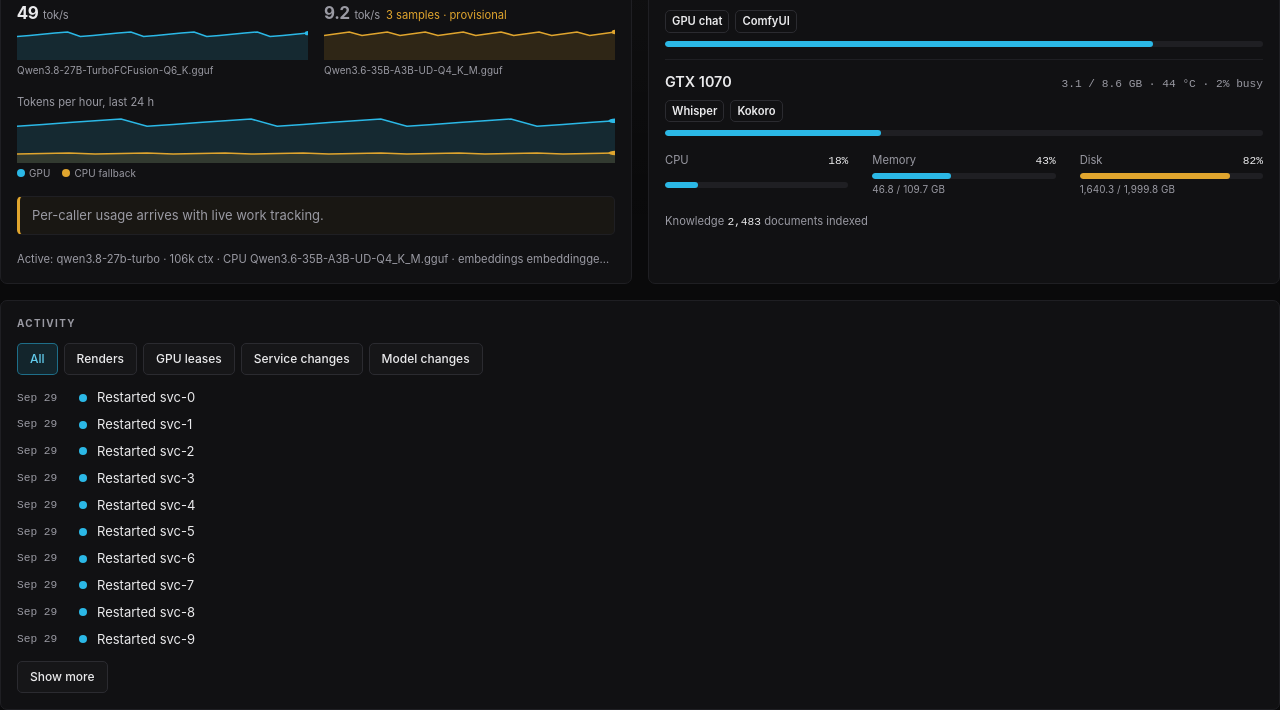
Test: the grouped activity feed › widens the request to the endpoint cap on Show more
(page scrolled)
Step 1. Click the button "Show more" → click(62, 677), box [17,661,108,693]
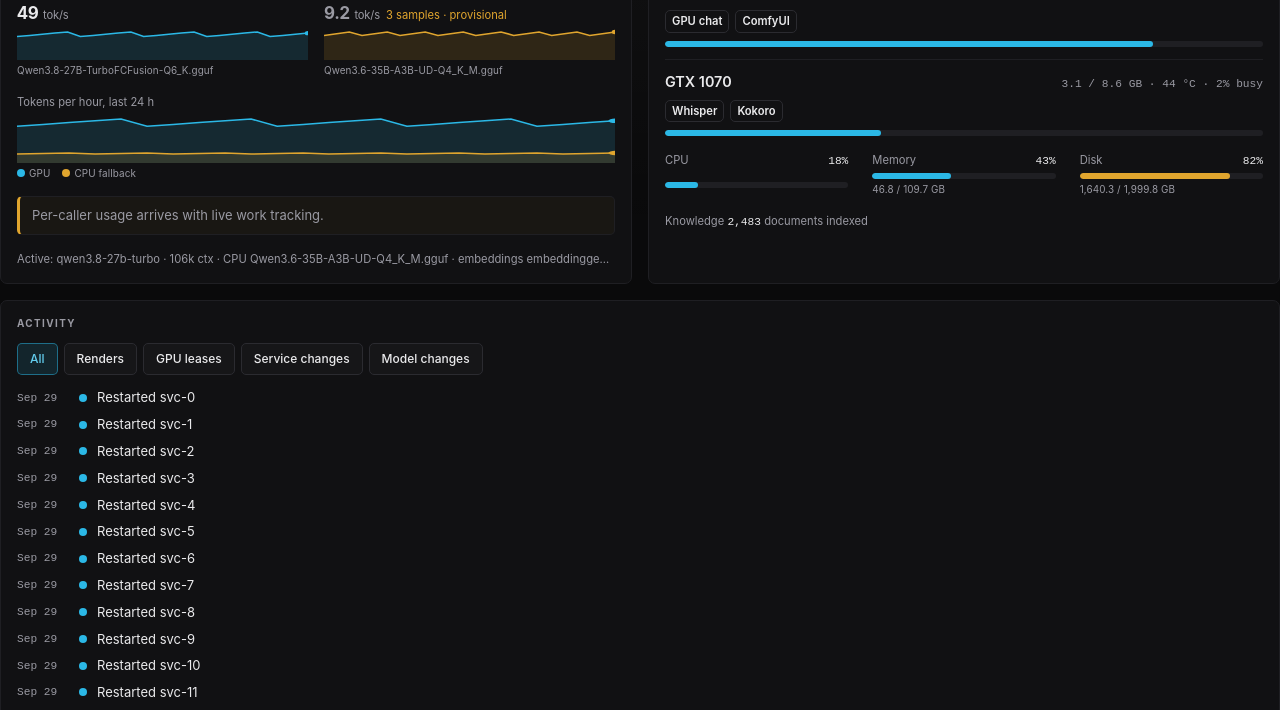
Expected: the text "Restarted svc-11" is shown, [97,684,198,700]
